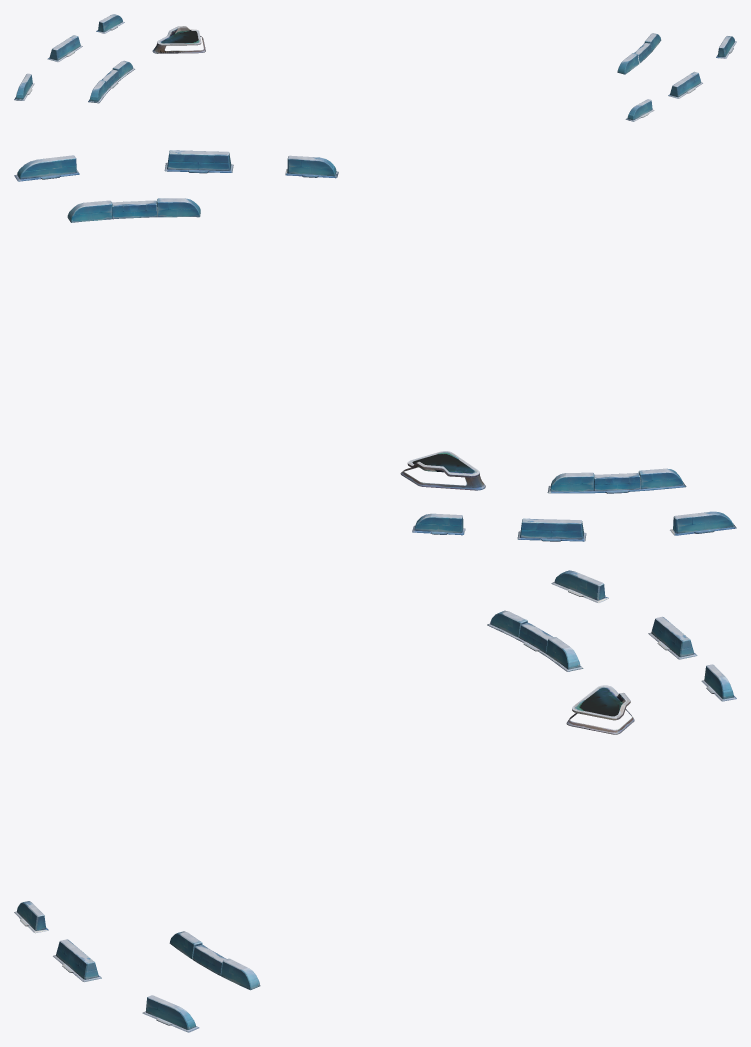
File: pref_sm_beach_winter_bakegroups01_lv0.fbx
The picture shows the model from 3 angles, top to bottom: view 1: azimuth 30°, elevation 25°; view 2: azimuth 150°, elevation 25°; view 3: azimuth 270°, elevation 25°; orthographic projection. The views are drawn at different scales.
Parts seen in each view (by area): view 1: sm_beach_winter_bakegroups01_a_lv0, sm_beach_winter_bakegroups01_c_lv0; view 2: sm_beach_winter_bakegroups01_a_lv0, sm_beach_winter_bakegroups01_c_lv0; view 3: sm_beach_winter_bakegroups01_a_lv0, sm_beach_winter_bakegroups01_c_lv0.
Boxes of the visible parts, <box> form: sm_beach_winter_bakegroups01_a_lv0: <box>14,14,205,103</box>; sm_beach_winter_bakegroups01_c_lv0: <box>617,33,736,121</box>; sm_beach_winter_bakegroups01_a_lv0: <box>400,451,736,541</box>; sm_beach_winter_bakegroups01_c_lv0: <box>14,150,338,222</box>; sm_beach_winter_bakegroups01_a_lv0: <box>487,570,736,734</box>; sm_beach_winter_bakegroups01_c_lv0: <box>14,901,260,1032</box>.
Bounding box in the file's own units: 108 × 2.13 × 73.04.
Materials: 1 (1 with a texture image).
